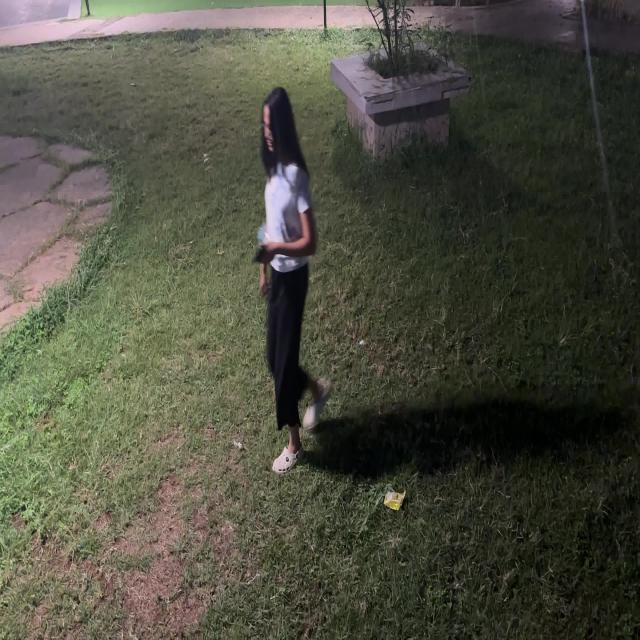human: (240, 80, 338, 480)
trash: (376, 478, 408, 516)
